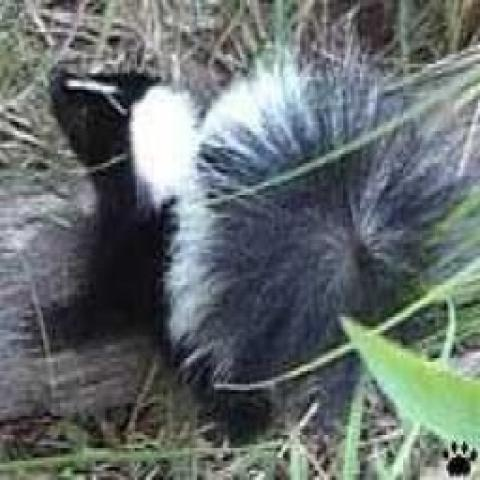small_animal: (49, 67, 447, 454)
